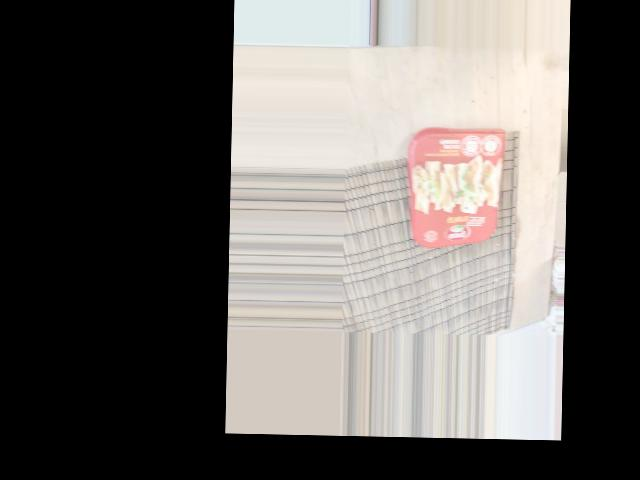cheese: (341, 175, 474, 266)
